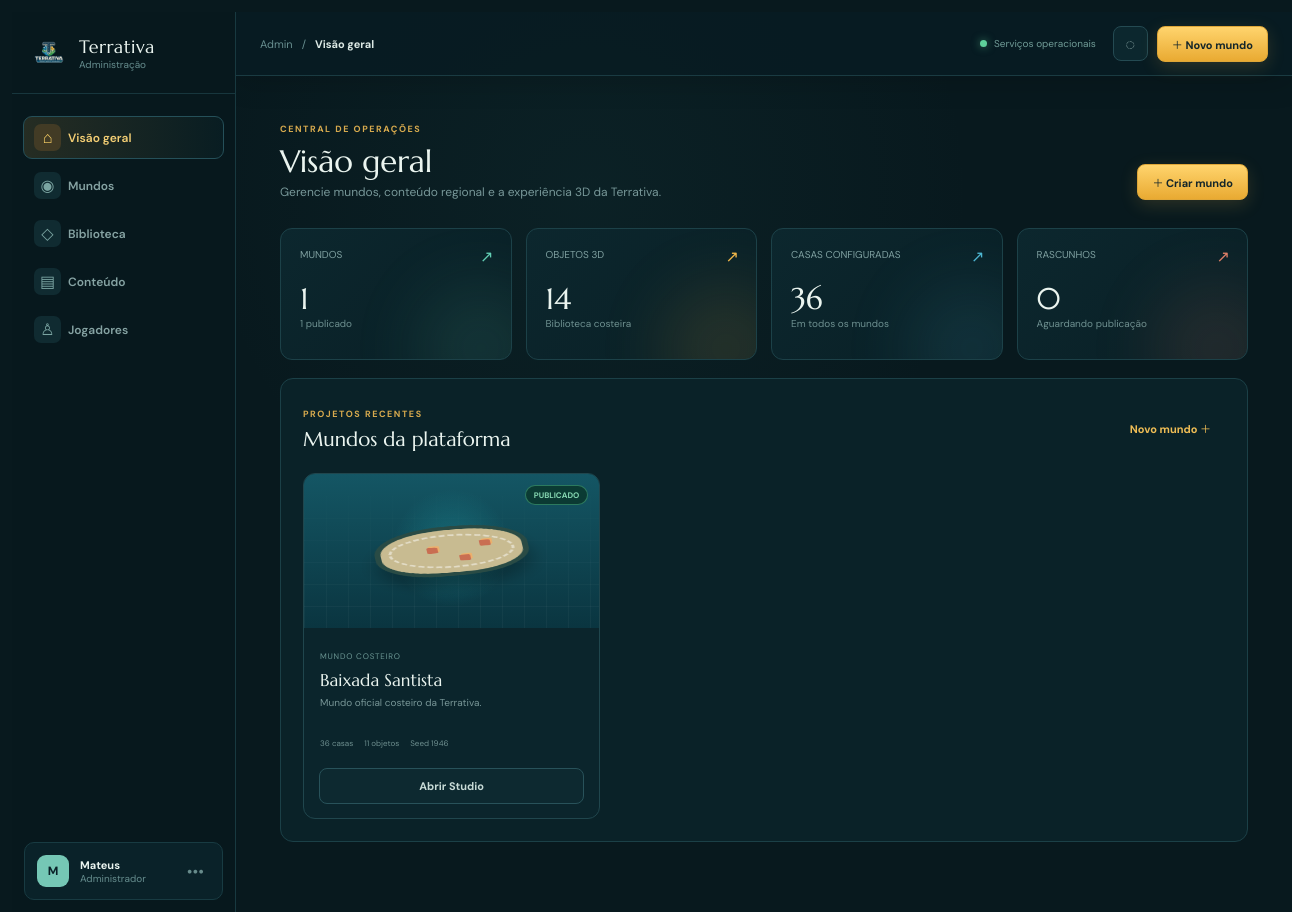
Test: Terrativa Admin › renderiza o painel geral e abre o catálogo de mundos
Click the button "◉ Mundos" at (124, 186), box [23,164,224,207]
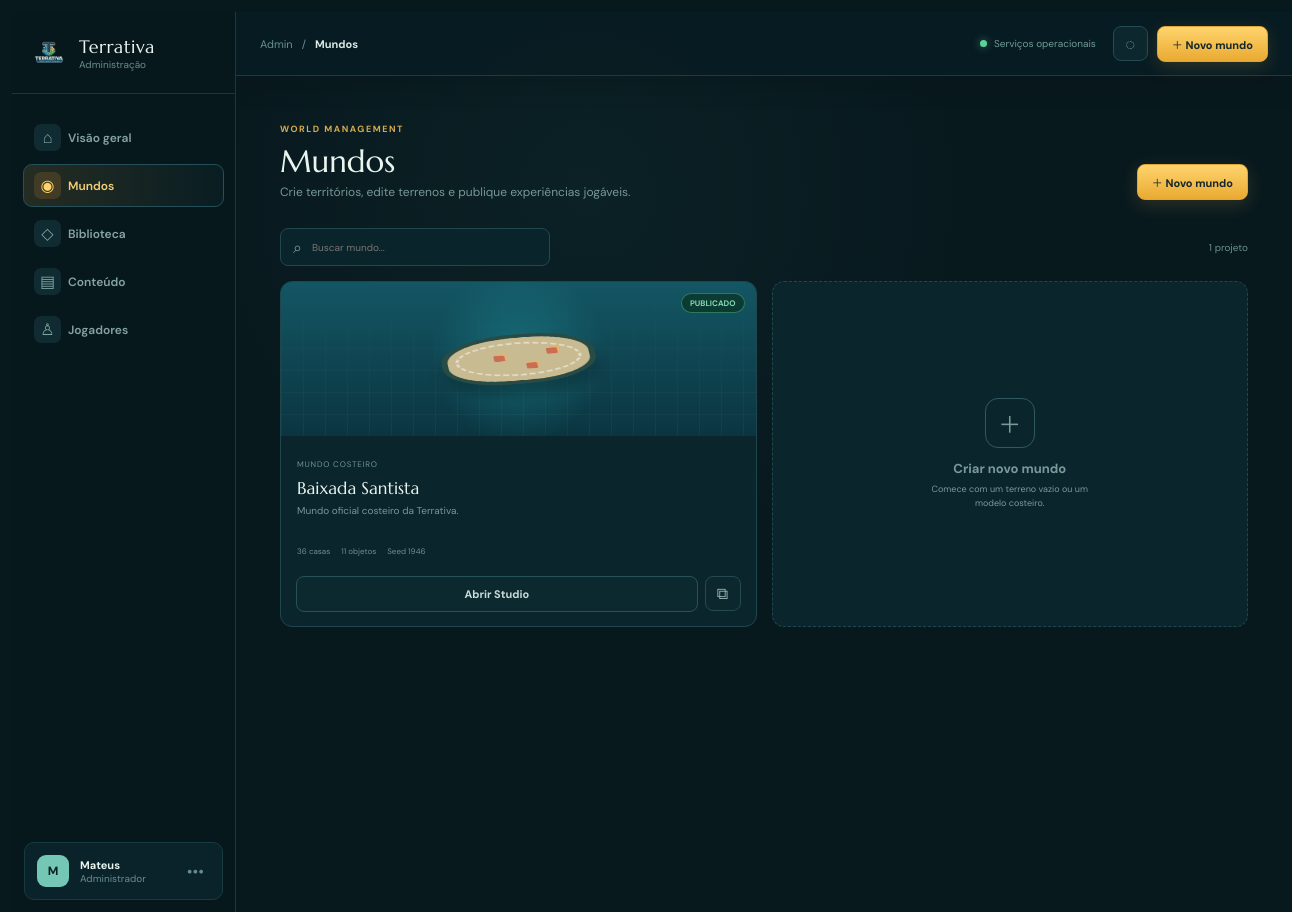
Check: the text "Baixada Santista" is shown, box [297,477,419,499]
Check: the text "Criar novo mundo" is shown, box [953,460,1066,478]
